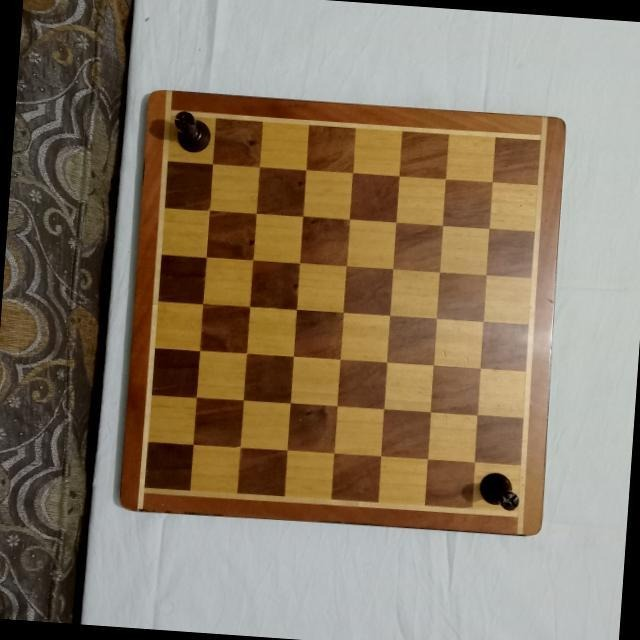black-rook: (169, 110, 211, 154), (475, 471, 521, 511)
